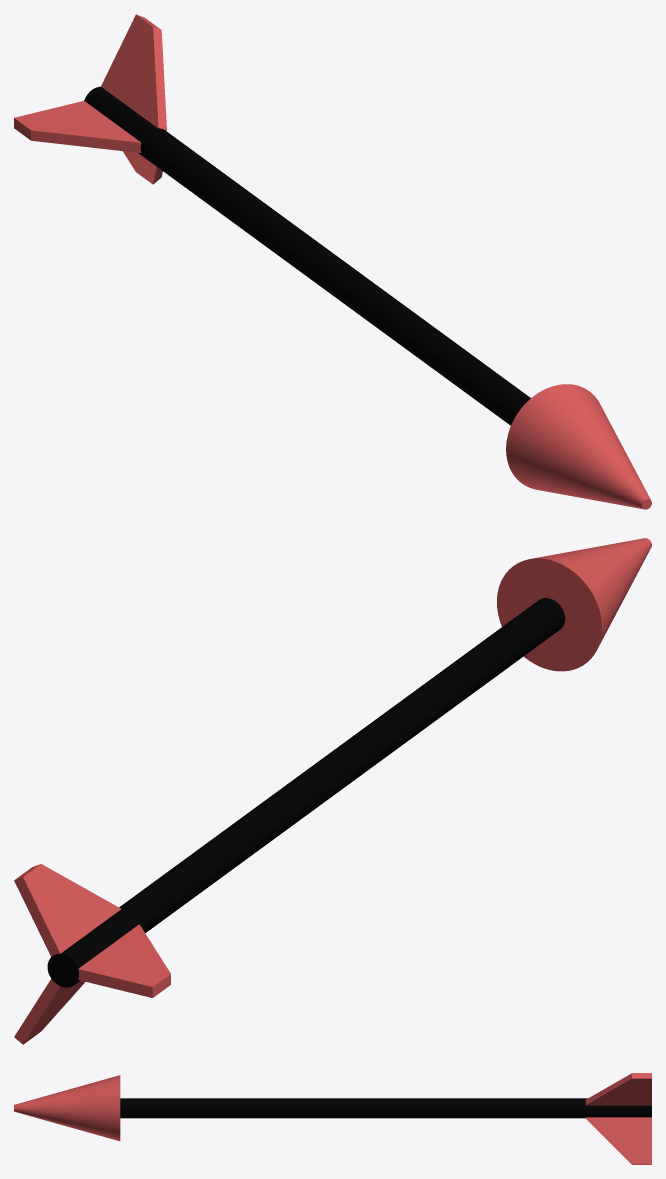
File: Arrow ArcherPro.fbx
3 views of the same model, one above another, from view 1: azimuth 30°, elevation 25°; view 2: azimuth 150°, elevation 25°; view 3: azimuth 270°, elevation 25° (orthographic). The views are drawn at different scales.
Parts seen in each view (by area): view 1: Body1, Body2, Body3, Body5; view 2: Body1, Body2, Body3, Body5, Body4; view 3: Body1, Body2, Body4, Body3.
Part boxes in pixels (x1,y1,x2,y2): Body1: (84, 86, 530, 425); Body2: (506, 384, 651, 509); Body3: (101, 14, 166, 130); Body5: (14, 101, 141, 152); Body1: (47, 598, 565, 987); Body2: (497, 538, 651, 671); Body3: (14, 864, 120, 956); Body5: (78, 924, 170, 997); Body4: (14, 979, 85, 1044); Body1: (120, 1098, 651, 1118); Body2: (14, 1075, 120, 1141); Body4: (585, 1117, 651, 1164); Body3: (585, 1073, 651, 1105).
Bounding box in the file's own units: 13.5 × 15.22 × 96.
